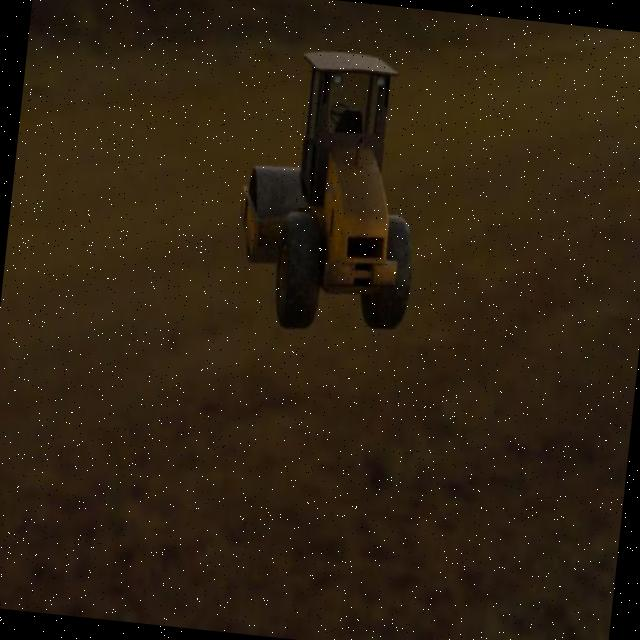Roller: (226, 42, 434, 341)
